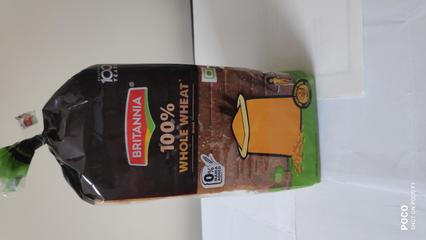bread: (47, 57, 328, 195)
